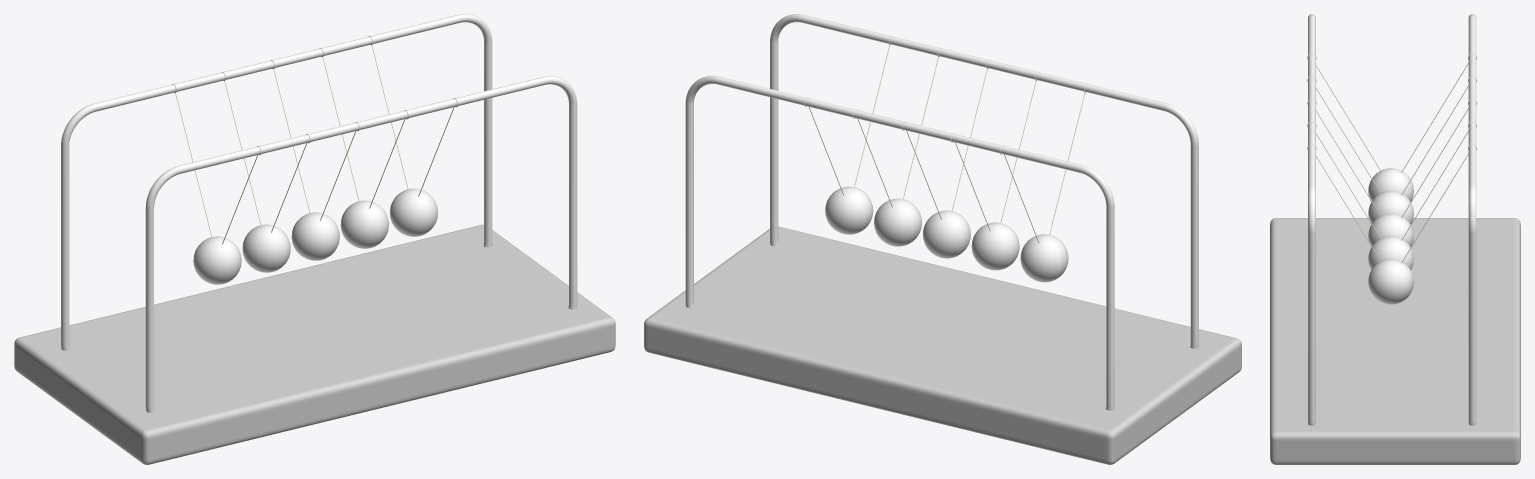
File: Newtons_Cradle.FBX
3 views of the same model, side by side, from view 1: azimuth 30°, elevation 25°; view 2: azimuth 150°, elevation 25°; view 3: azimuth 270°, elevation 25° (orthographic). The views are drawn at different scales.
Parts seen in each view (by area): view 1: Box007, Rectangle1, Sphere001, Sphere002, Sphere003, Sphere004, Sphere005; view 2: Box007, Rectangle1, Sphere001, Sphere002, Sphere005, Sphere004, Sphere003; view 3: Box007, Rectangle1, Sphere005, Sphere003, Sphere004, Sphere001, Sphere002.
Boxes of the visible parts, x1=… form: Box007: x1=14, y1=224, x2=615, y2=464; Rectangle1: x1=61, y1=14, x2=577, y2=412; Sphere001: x1=193, y1=236, x2=241, y2=284; Sphere002: x1=242, y1=224, x2=290, y2=272; Sphere003: x1=291, y1=212, x2=339, y2=260; Sphere004: x1=340, y1=200, x2=388, y2=248; Sphere005: x1=389, y1=188, x2=437, y2=236; Box007: x1=644, y1=226, x2=1241, y2=464; Rectangle1: x1=685, y1=14, x2=1198, y2=410; Sphere001: x1=1020, y1=234, x2=1068, y2=282; Sphere002: x1=971, y1=222, x2=1019, y2=270; Sphere005: x1=825, y1=186, x2=873, y2=234; Sphere004: x1=874, y1=198, x2=921, y2=246; Sphere003: x1=922, y1=210, x2=970, y2=258; Box007: x1=1270, y1=218, x2=1520, y2=464; Rectangle1: x1=1308, y1=14, x2=1476, y2=425; Sphere005: x1=1368, y1=259, x2=1413, y2=304; Sphere003: x1=1368, y1=213, x2=1413, y2=247; Sphere004: x1=1368, y1=236, x2=1413, y2=269; Sphere001: x1=1368, y1=168, x2=1413, y2=201; Sphere002: x1=1368, y1=191, x2=1413, y2=224.
Bounding box in the file's own units: 54.6 × 30.04 × 26.46.
